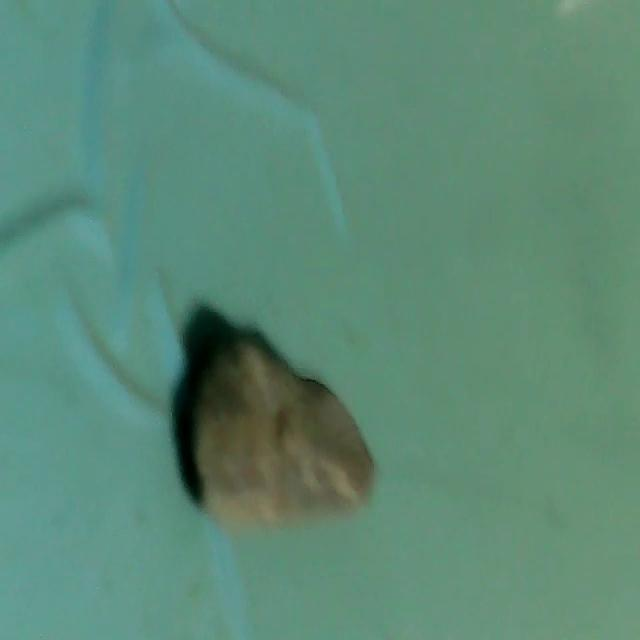rock: (167, 314, 380, 533)
